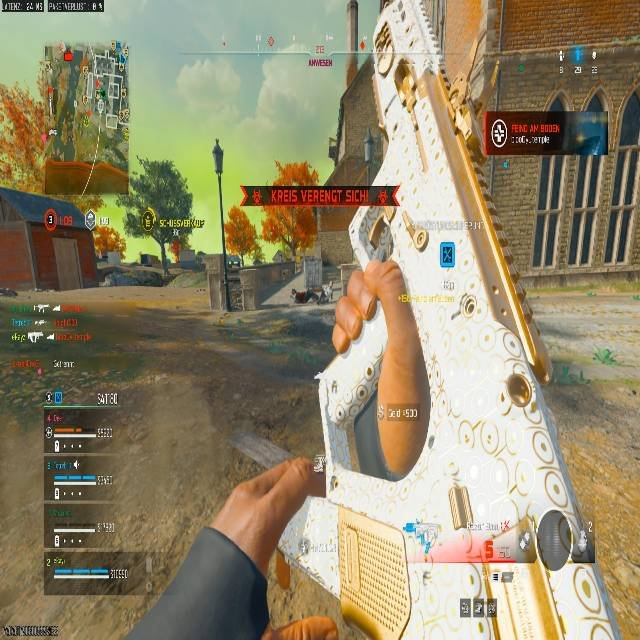head: (367, 221, 395, 262)
